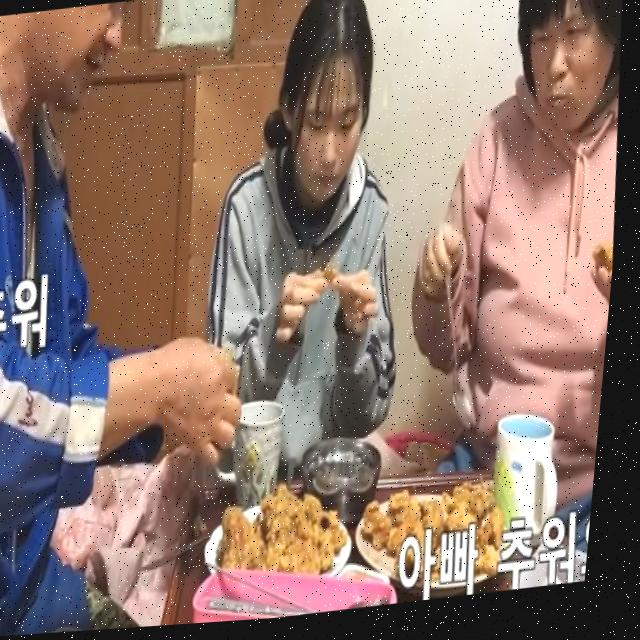eating-person: (174, 0, 457, 524), (394, 0, 640, 518)
